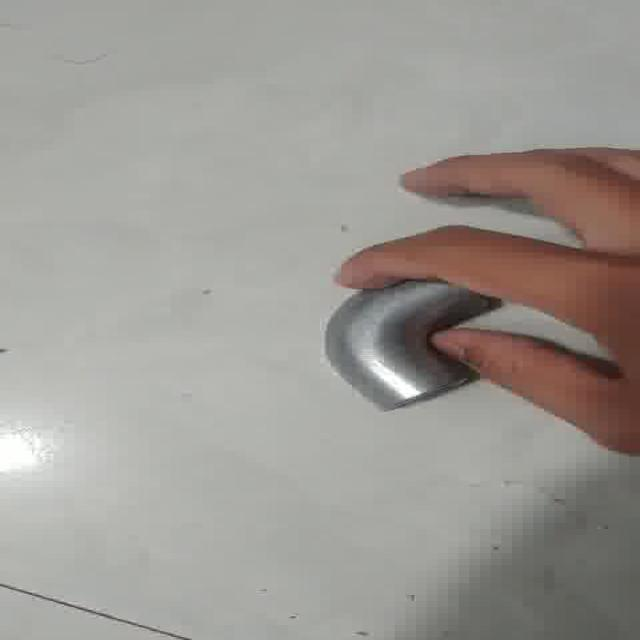Dry Waste: (317, 272, 491, 412)
